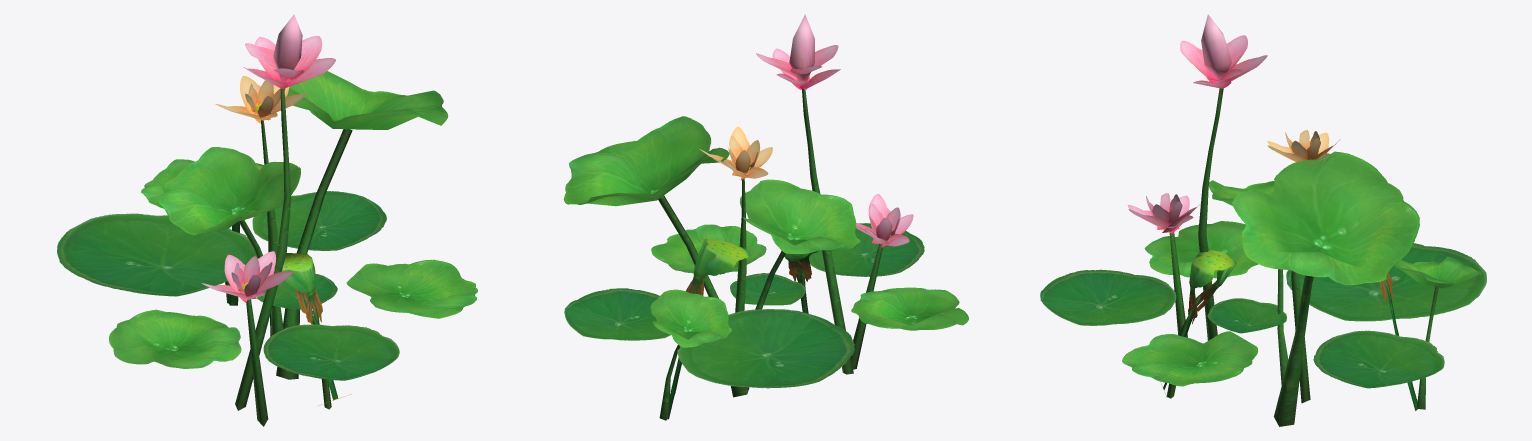
Rendered from Scene_cao_011.FBX.
3 views of the same model, side by side, from view 1: azimuth 30°, elevation 25°; view 2: azimuth 150°, elevation 25°; view 3: azimuth 270°, elevation 25° (orthographic). The views are drawn at different scales.
Parts seen in each view (by area): view 1: Scene_cao_011; view 2: Scene_cao_011; view 3: Scene_cao_011.
Part boxes in pixels (x1=…): Scene_cao_011: x1=57, y1=14, x2=477, y2=426; Scene_cao_011: x1=563, y1=14, x2=968, y2=420; Scene_cao_011: x1=1040, y1=14, x2=1486, y2=426.
Size of the model in its own units: 86.03 by 85.6 by 98.92.
